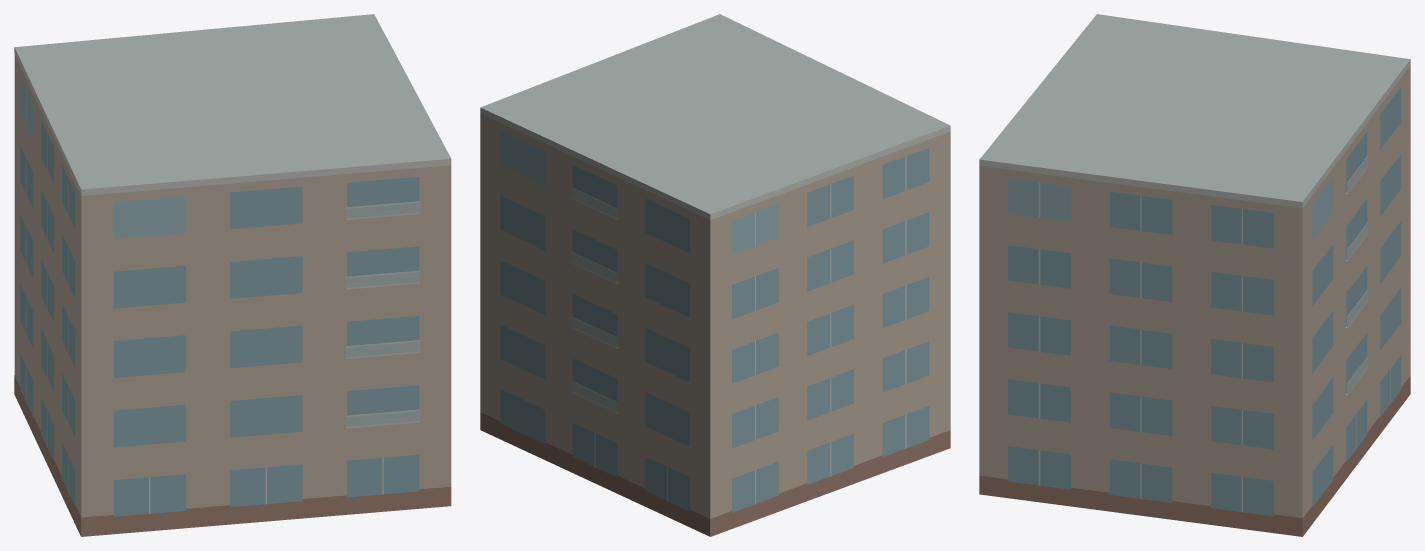
The model's file is survey-upis-32668373.glb.
3 renders of one model, left to right at view 1: azimuth 30°, elevation 25°; view 2: azimuth 150°, elevation 25°; view 3: azimuth 270°, elevation 25°, orthographic. The views are drawn at different scales.
Visible parts, largest first — view 1: survey-upis-32668373.tmp; view 2: survey-upis-32668373.tmp; view 3: survey-upis-32668373.tmp.
Boxes of the visible parts, x1,y1,x2,y2 form: survey-upis-32668373.tmp: (14,14,451,536); survey-upis-32668373.tmp: (480,14,950,536); survey-upis-32668373.tmp: (979,14,1410,536).
Bounding box in the file's own units: 15.79 × 13.1 × 15.3.
